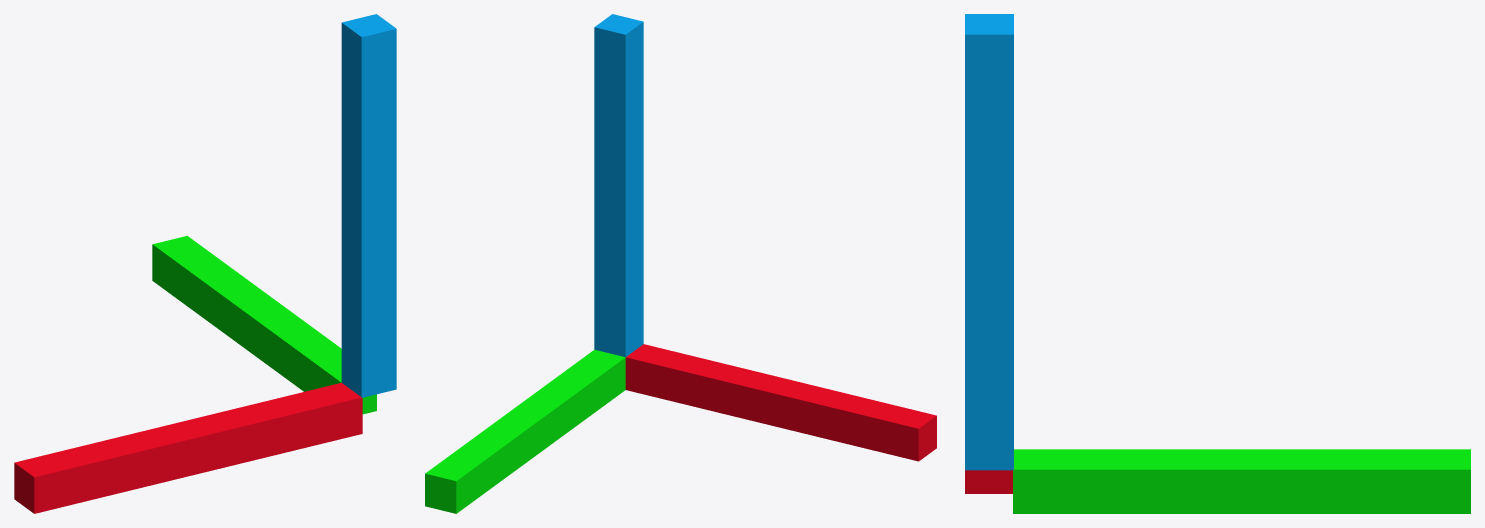
Rendered from coor_axis.dae.
The picture shows the model from 3 angles, left to right: view 1: azimuth 30°, elevation 25°; view 2: azimuth 150°, elevation 25°; view 3: azimuth 270°, elevation 25°; orthographic projection. The views are drawn at different scales.
Parts seen in each view (by area): view 1: Cube.002, Cube, Cube.001; view 2: Cube.002, Cube, Cube.001; view 3: Cube.001, Cube.002, Cube.
Boxes of the visible parts, box(x1,y1,x2,y2) form: Cube.002: box(341, 14, 396, 397); Cube: box(14, 383, 362, 513); Cube.001: box(152, 235, 376, 414); Cube.002: box(594, 14, 643, 357); Cube: box(625, 344, 936, 461); Cube.001: box(425, 349, 625, 513); Cube.001: box(1013, 449, 1470, 513); Cube.002: box(965, 14, 1013, 470); Cube: box(965, 470, 1012, 493).
Size of the model in its own units: 2.72 by 2.72 by 2.85.
Materials: 3 (3 with a texture image).
